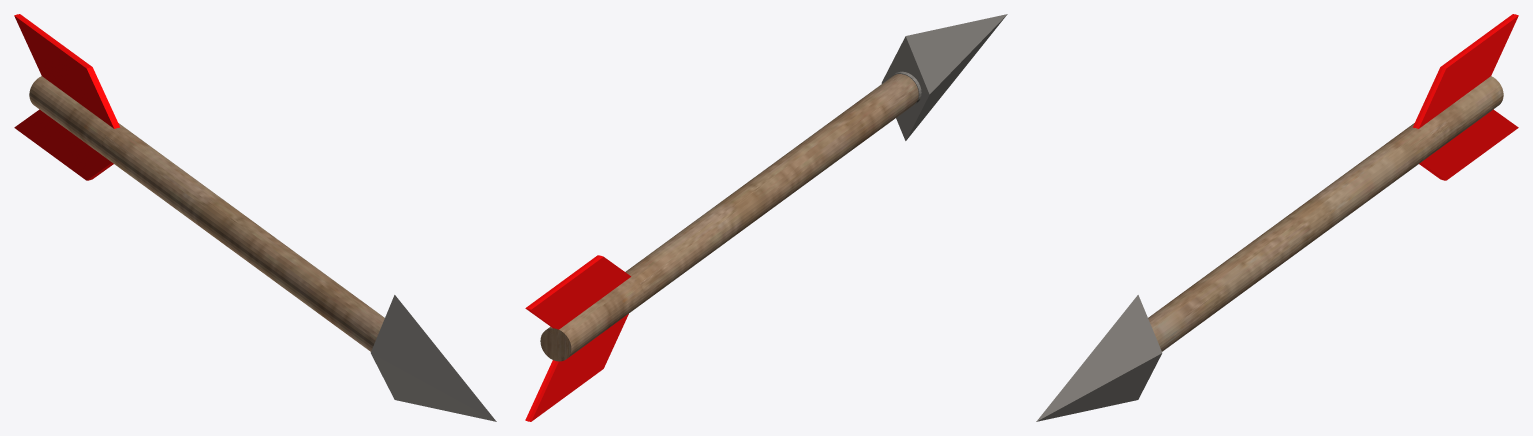
File: proto_arrow_textured.obj
The picture shows the model from 3 angles, left to right: view 1: azimuth 30°, elevation 25°; view 2: azimuth 150°, elevation 25°; view 3: azimuth 330°, elevation 25°; orthographic projection.
Parts seen in each view (by area): view 1: Cylinder; view 2: Cylinder; view 3: Cylinder.
Part boxes in pixels (left/top/right/bottom): Cylinder: left=14, top=14, right=496, bottom=421; Cylinder: left=525, top=14, right=1007, bottom=421; Cylinder: left=1036, top=14, right=1518, bottom=421.
Bounding box in the file's own units: 0.5014 × 1.12 × 8.65.
3 materials, 2 textured.
